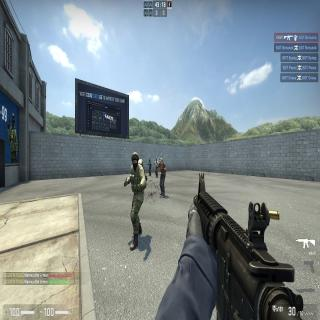CT-Body: (128, 152, 145, 248), (149, 158, 151, 176)
CT-Head: (131, 153, 139, 167), (149, 158, 150, 161)
T-Body: (160, 157, 166, 198), (156, 158, 158, 176), (156, 158, 157, 162)
T-Head: (160, 158, 163, 164)
